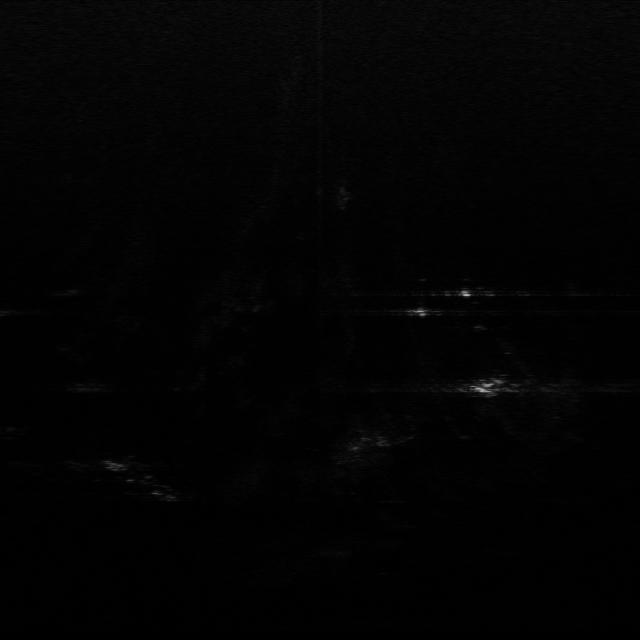rov: (468, 378, 512, 397)
